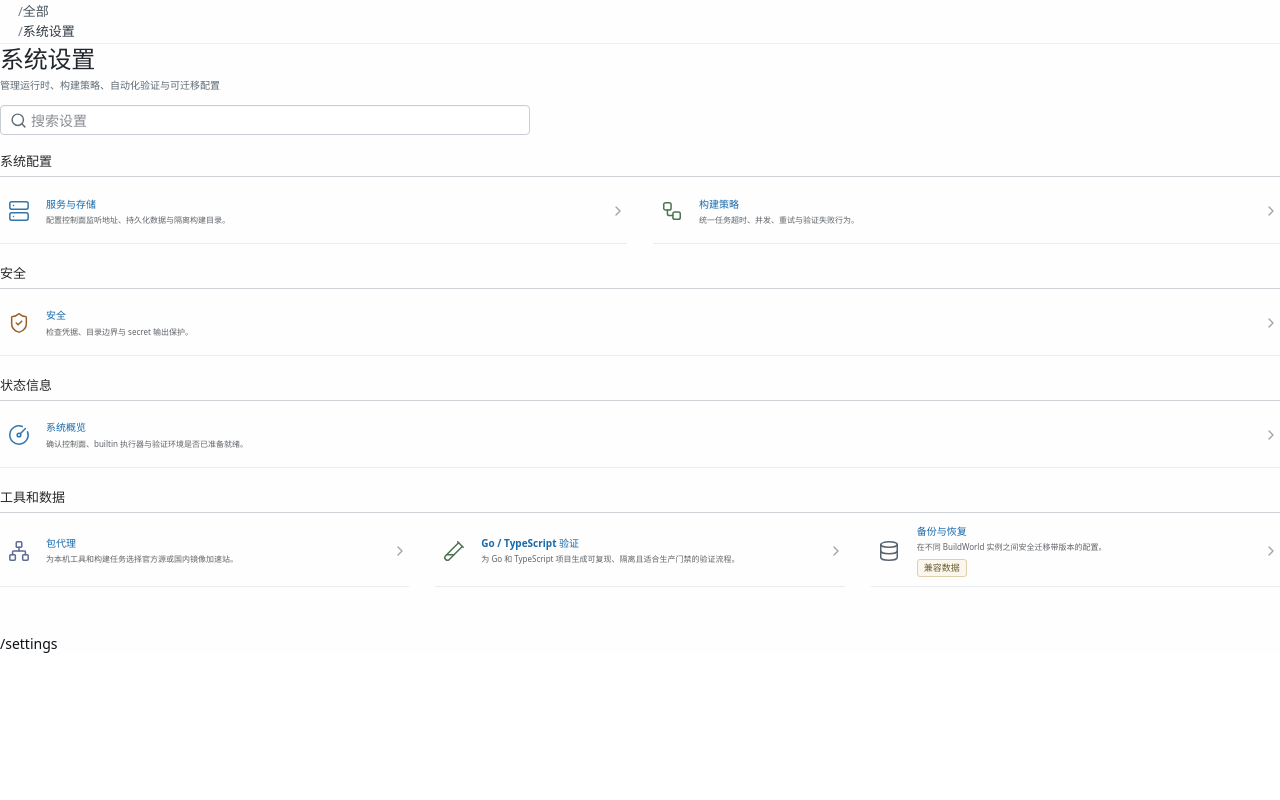
Settings Jenkins directory › keeps distributed Worker settings dormant and generates a builtin pipeline
The width and height of the screenshot is (1280, 800).
Expected: the text named "location" reads "/settings", [0,634,58,653]
Click the button with class "settings-directory-link" that starts with "Go / TypeScript 验证": click(640, 551) [435,516,845,587]
(page scrolled)
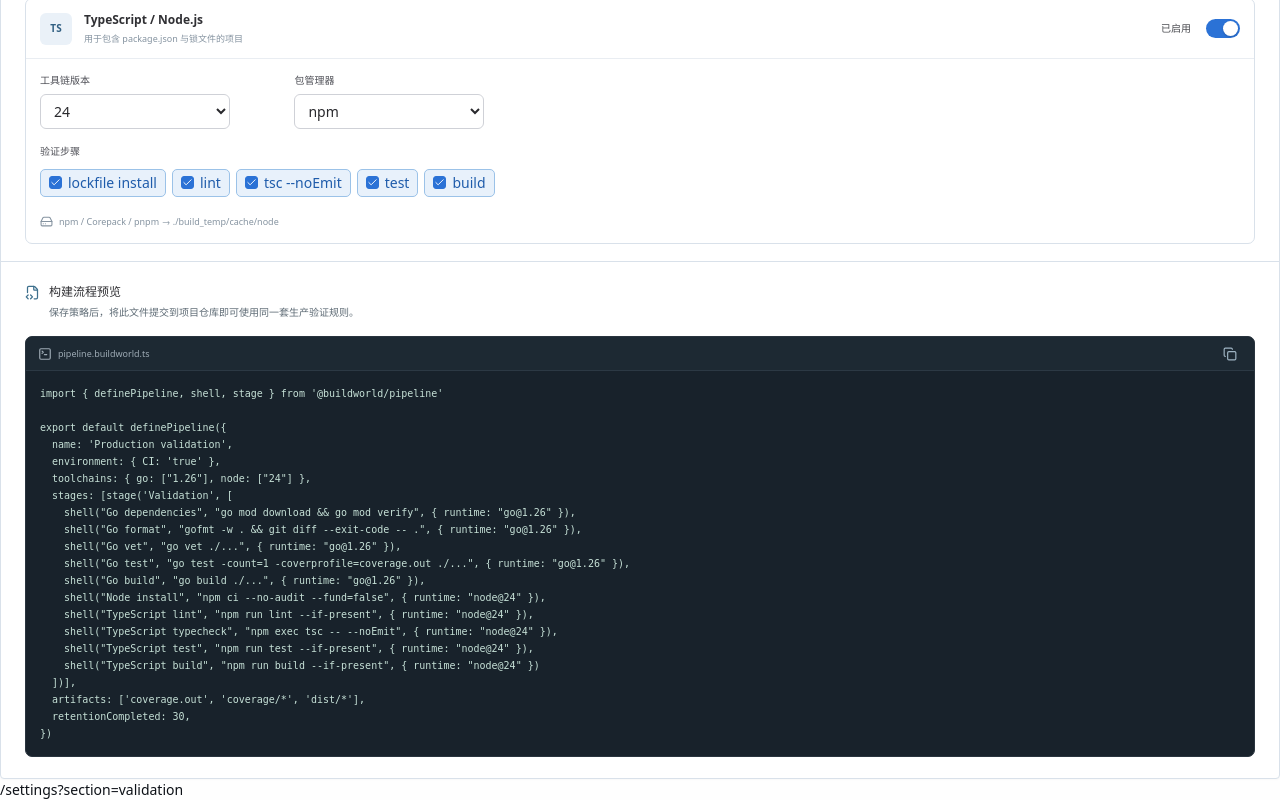
Expected: the element with class "settings-code-panel" shows "definePipeline", [40,388,630,739]
